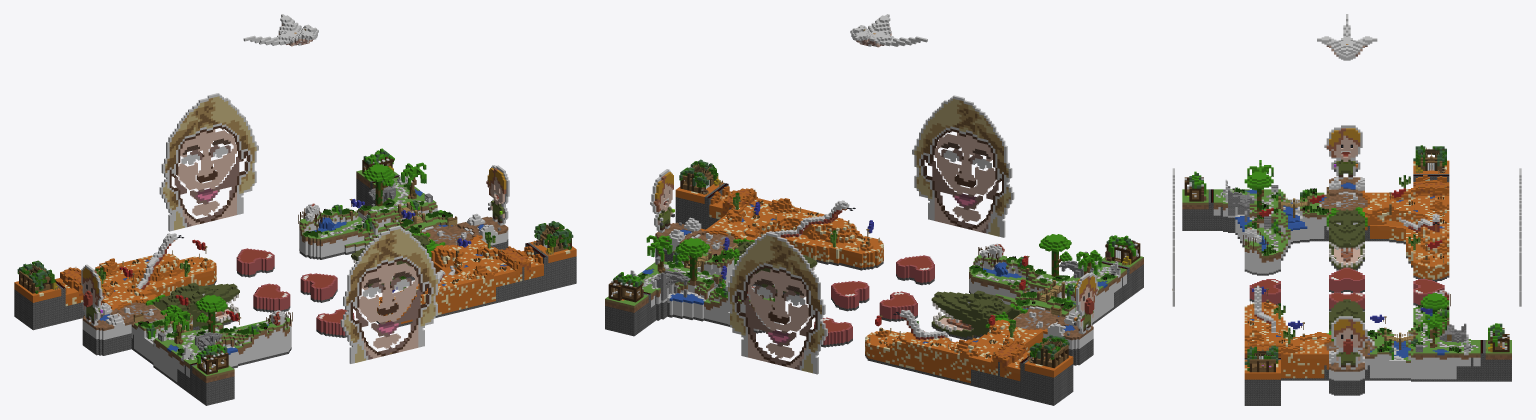
The model's file is minecraft.obj.
The picture shows the model from 3 angles, left to right: view 1: azimuth 30°, elevation 25°; view 2: azimuth 150°, elevation 25°; view 3: azimuth 270°, elevation 25°; orthographic projection. The views are drawn at different scales.
Size of the model in its own units: 209 by 120 by 145.
